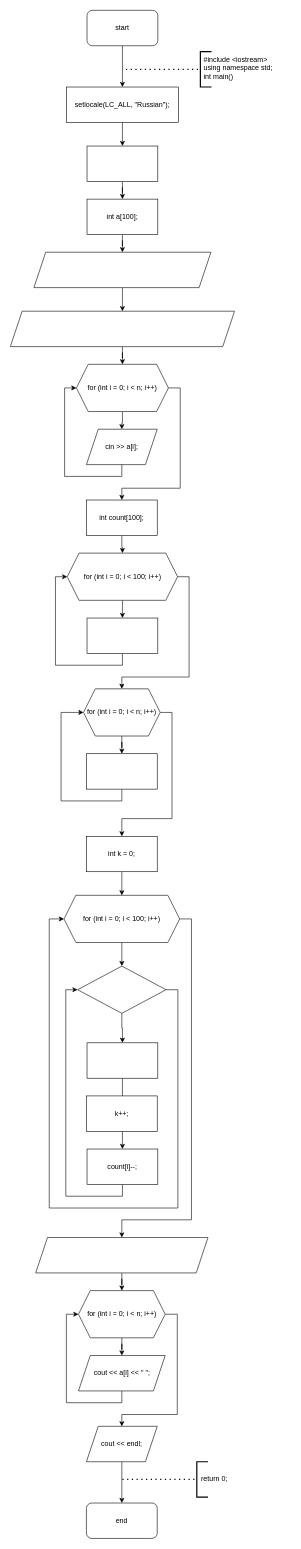
This 301x1549 diagram has some shape labels left out. The centre of each missing label's shape, as x and y in pixels:
a[k] = i;: (x=122, y=1060)
count[a[i]]++;: (x=121, y=771)
count[i] = 0;: (x=122, y=635)
cout << "Введите количество элементов: ";: (x=122, y=270)
cout << "Введите элементы массива от 0 до 99:" << endl;: (x=122, y=329)
cout << "Отсортированный массив:" << endl;: (x=121, y=1255)
int n;: (x=122, y=163)
while (count[i] > 0): (x=121, y=989)
